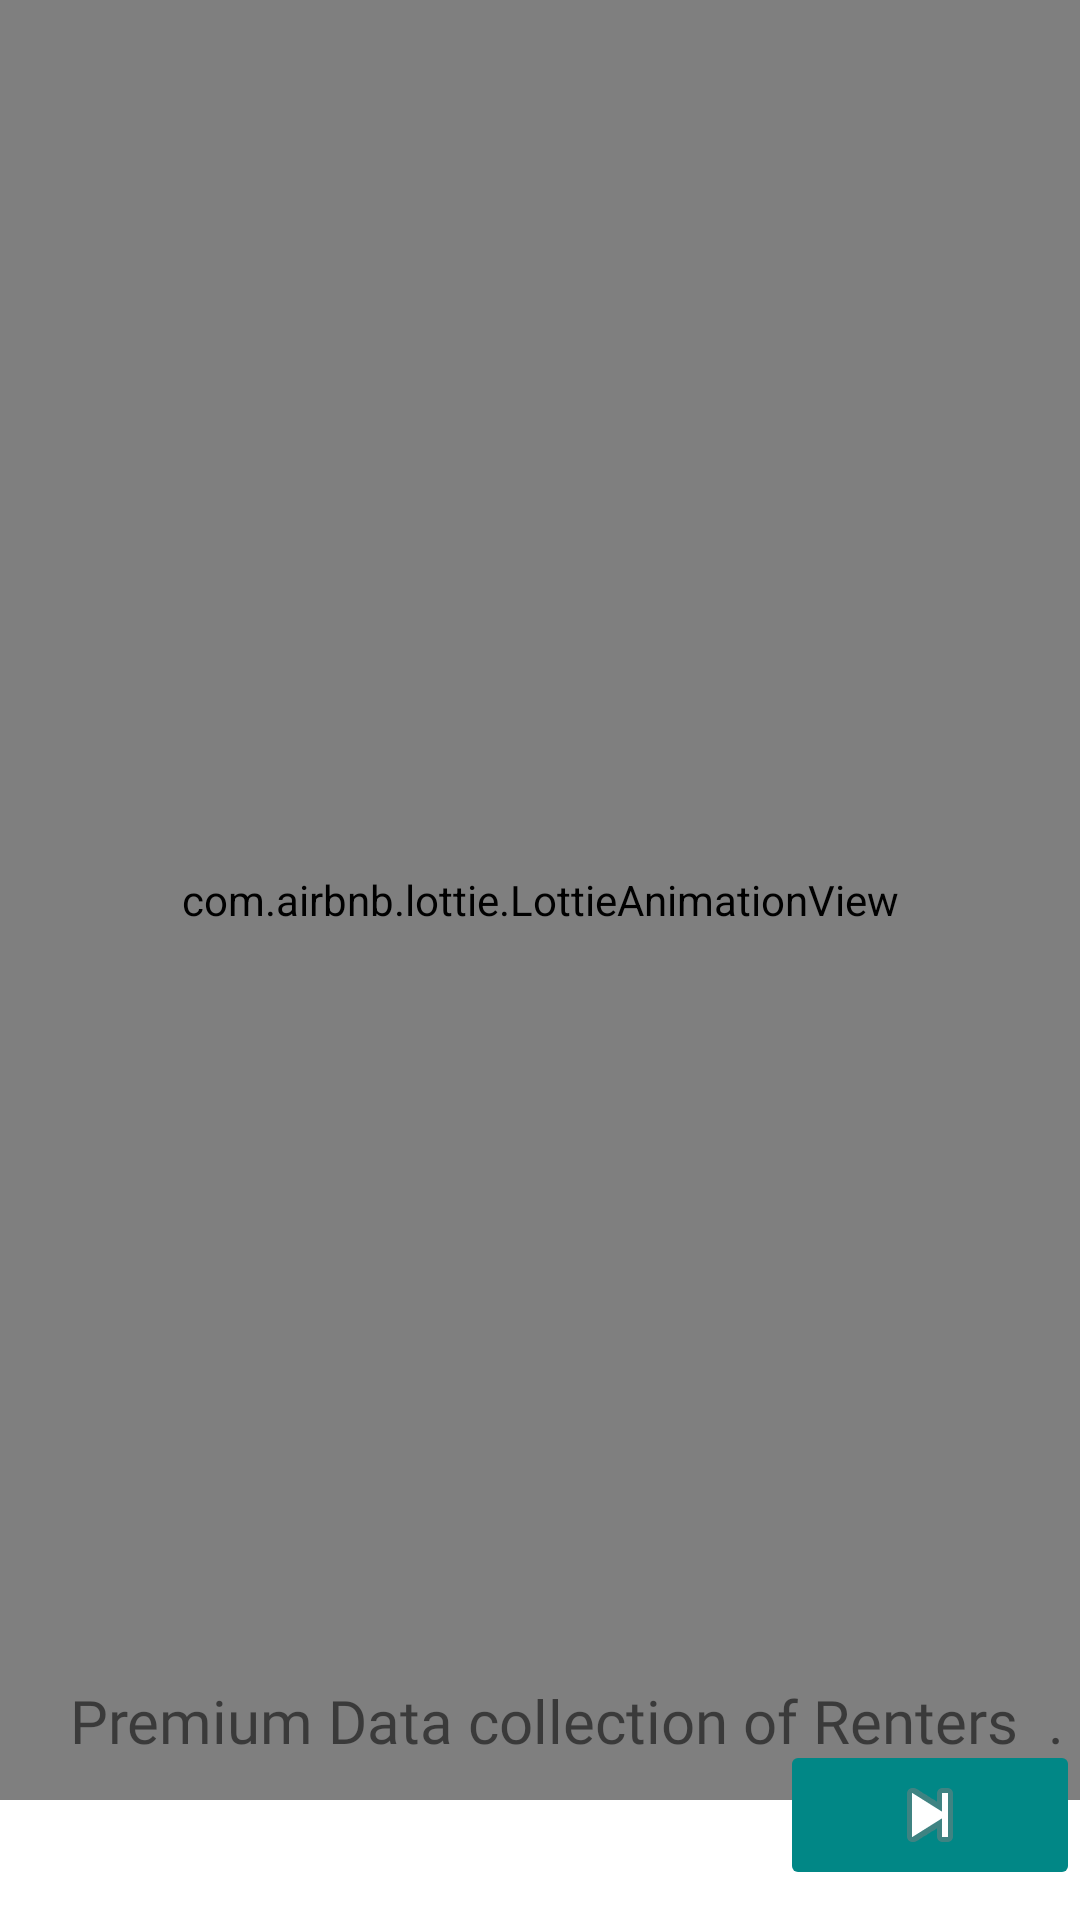

Icons on this 1080px x 1920px Android screen, each with the point to tap as (x=x, y=y):
next: (x=930, y=1815)
